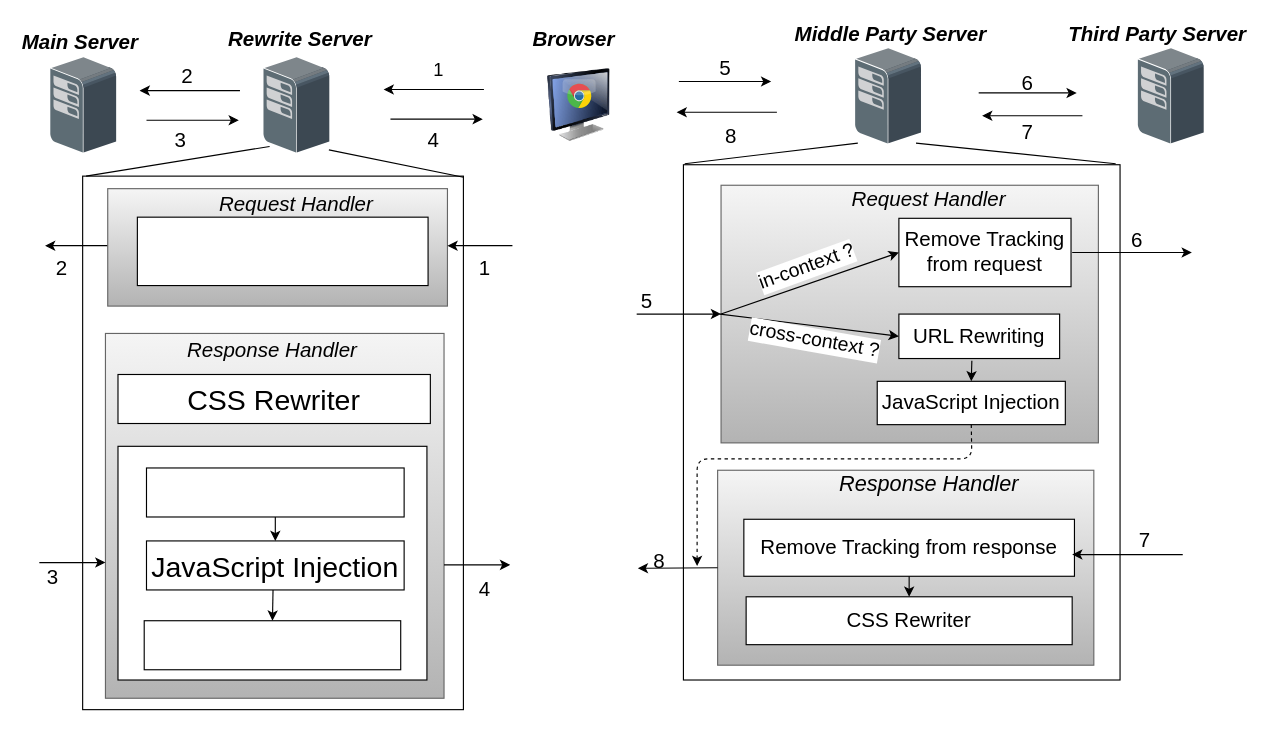
The diagram is 1275 pixels wide and 730 high, and some of its shapes have lost their labels. The centre of each missing label's shape, as x and y in pixels:
"CSP" belongs at (272,645).
"HTML Rewriter" belongs at (274,492).
"Simple Forward" belongs at (282,251).
